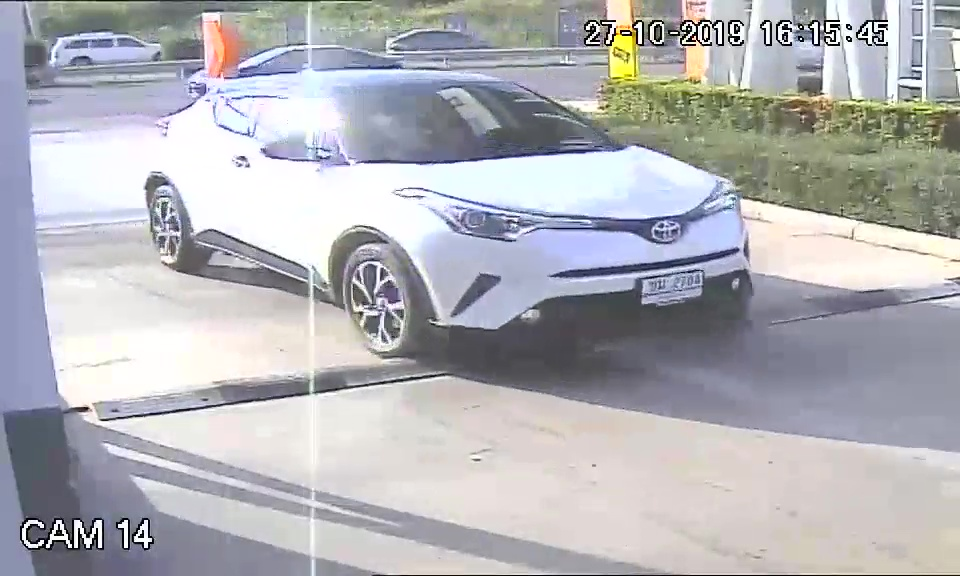sedan: (146, 74, 755, 357)
